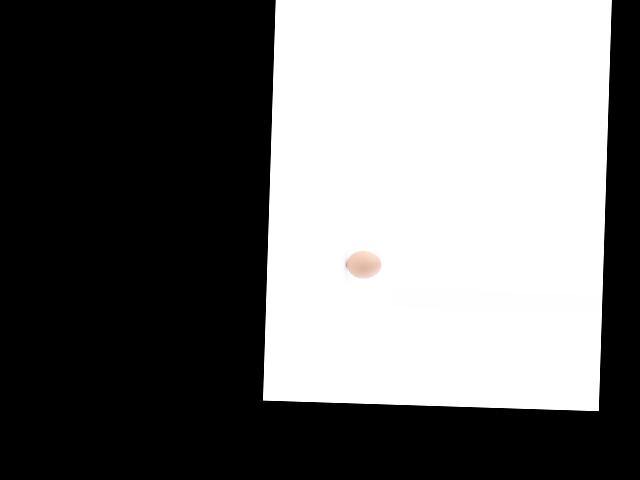egg: (346, 250, 381, 279)
